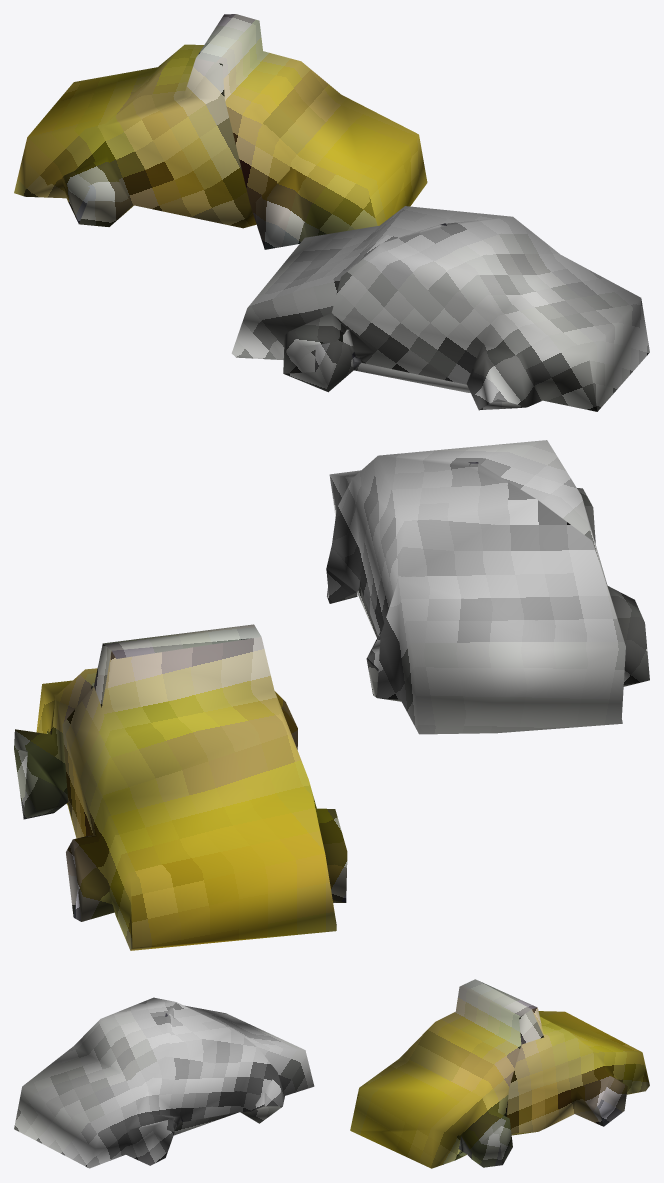
Rendered from CITY_TAXI_POLICE_CAR-low.glb.
The picture shows the model from 3 angles, top to bottom: view 1: azimuth 30°, elevation 25°; view 2: azimuth 150°, elevation 25°; view 3: azimuth 270°, elevation 25°; orthographic projection. The views are drawn at different scales.
Parts seen in each view (by area): view 1: CITY_TAXI_POLICE_CAR; view 2: CITY_TAXI_POLICE_CAR; view 3: CITY_TAXI_POLICE_CAR.
Part boxes in pixels (x1,y1,x2,y2): CITY_TAXI_POLICE_CAR: (14, 14, 649, 411); CITY_TAXI_POLICE_CAR: (14, 440, 649, 950); CITY_TAXI_POLICE_CAR: (14, 979, 649, 1168).
Bounding box in the file's own units: 0.0556 × 0.0276 × 0.1261.
Materials: 1 (1 with a texture image).
